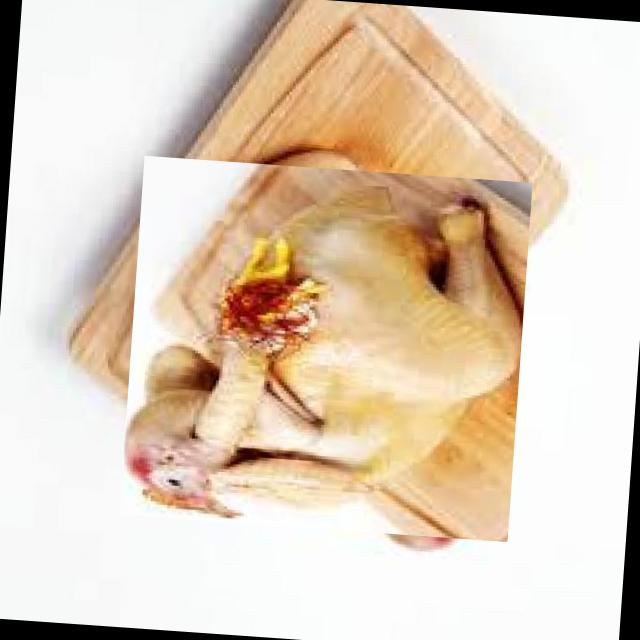chicken: (126, 148, 526, 548)
